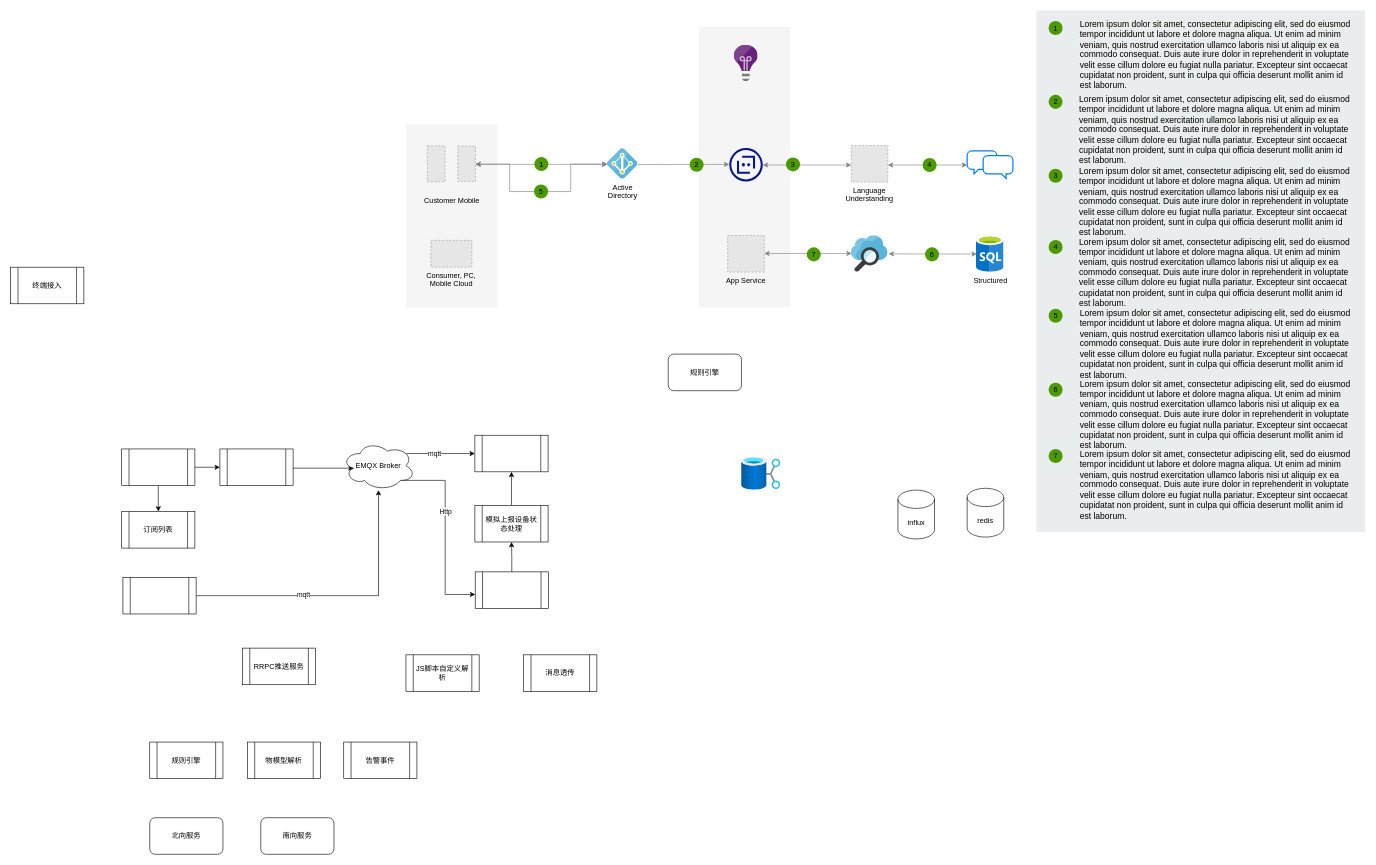
Some shapes in this 1376 by 865 pixel diagram are drawn without their labels. Grey dashed boxes stand in for pictures. Each missing label, with the centre of its shape:
"Azure App Insights" goes at pixel 746 63.
"Azure Search" goes at pixel 869 253.
"Bot Service" goes at pixel 745 164.
"Kafka" goes at pixel 760 473.
"Q&A Maker" goes at pixel 989 164.
"WebHook" goes at pixel 511 589.
"消息推送服务" goes at pixel 159 595.
"终端三元组" goes at pixel 158 467.
"终端接入速率梯度控制" goes at pixel 256 467.
"设备上行信息处理" goes at pixel 511 453.
